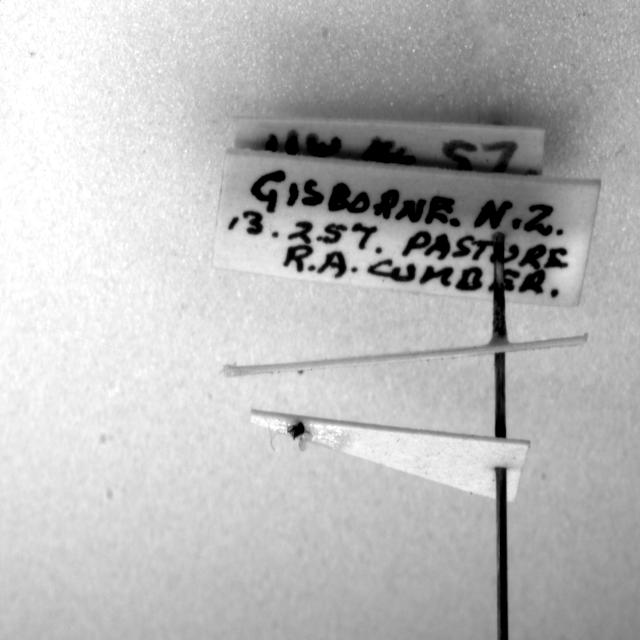hand_label: (212, 150, 600, 306)
